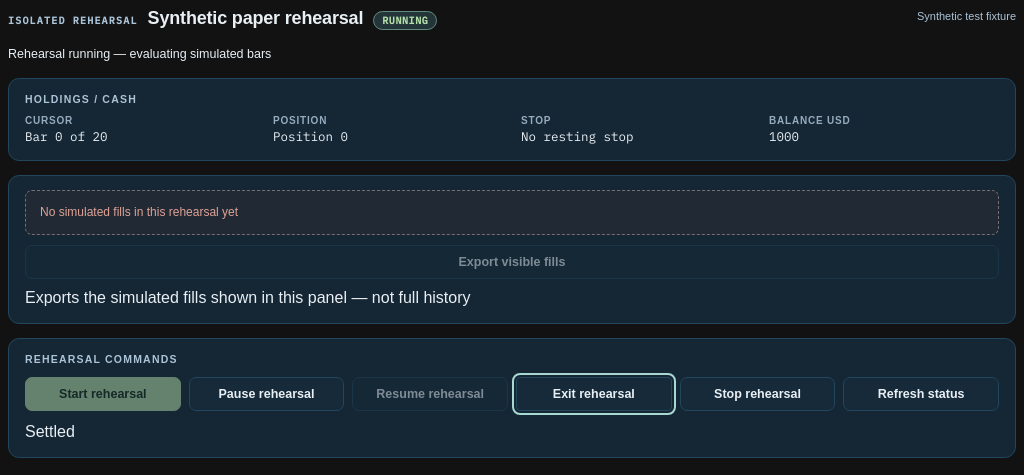
Test case: rehearsal-commands-busy › signals exit through settlement and permits later activation
This screenshot has width=1024, height=475.
Expected: the element with test id "rehearsal-holdings-panel" is shown, [8,78,1016,161]
Click the button with test id "rehearsal-command-exit" at [594, 394], box [516,377,672,411]
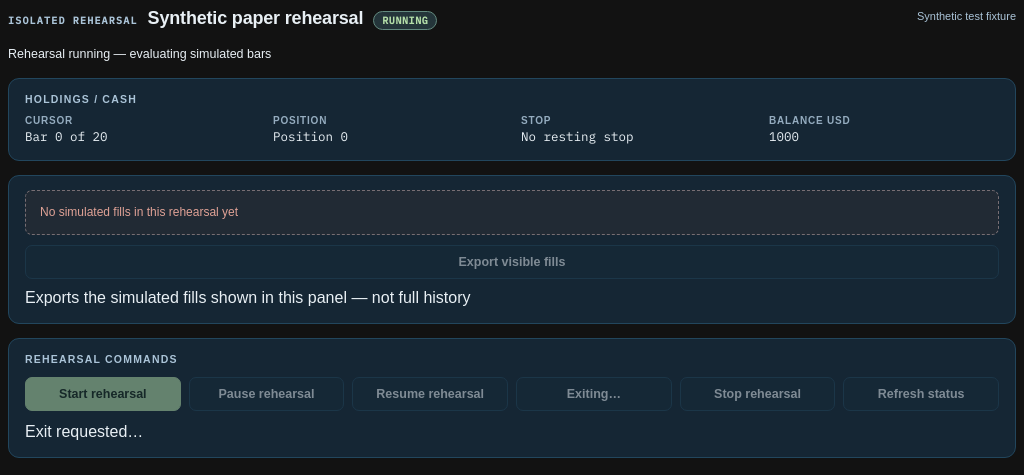
Now the button with test id "rehearsal-command-exit" is disabled
Now the button with test id "rehearsal-command-exit" reads "Exiting…"
Now the text with test id "rehearsal-commands-busy-status" reads "Exit requested…", box [25,423,143,440]
Press the mouse on the button with test id "rehearsal-command-exit" at [594, 394], box [516,377,672,411]
Press Enter in the button with test id "rehearsal-command-exit", box [516,377,672,411]
Click the button with test id "rehearsal-command-exit" at [594, 394], box [516,377,672,411]
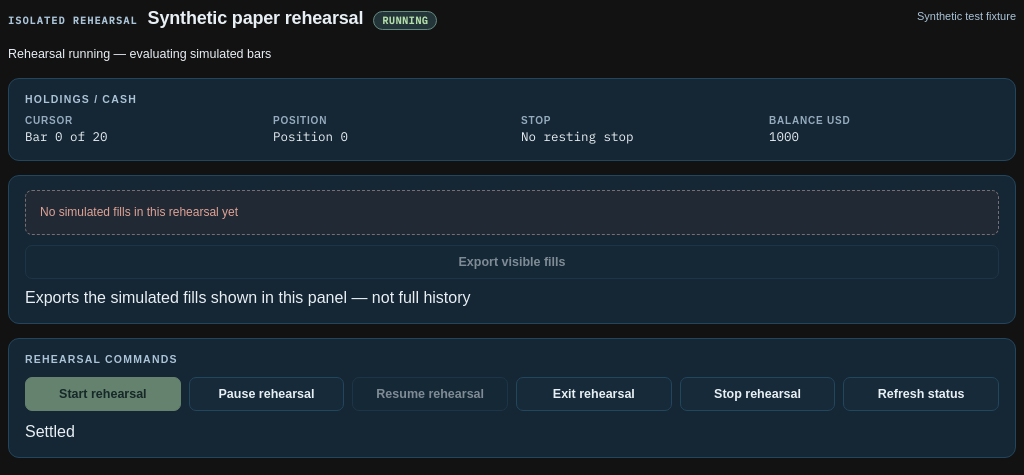
Now the button with test id "rehearsal-command-exit" reads "Exit rehearsal"
Now the text with test id "rehearsal-commands-busy-status" reads "Settled", box [25,423,75,440]
Now the button with test id "rehearsal-command-exit" is enabled
Click the button with test id "rehearsal-command-exit" at [594, 394], box [516,377,672,411]
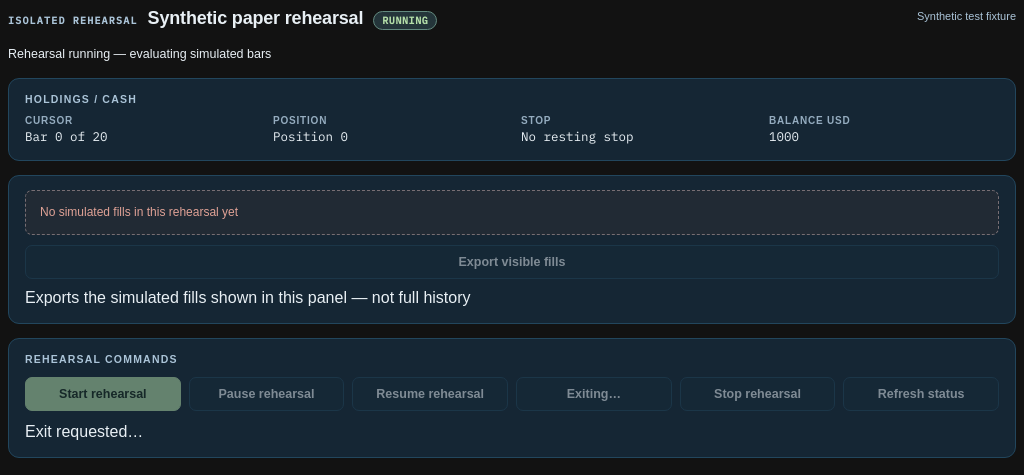
Now the button with test id "rehearsal-command-exit" is disabled
Now the button with test id "rehearsal-command-exit" reads "Exiting…"
Now the text with test id "rehearsal-commands-busy-status" reads "Exit requested…", box [25,423,143,440]
Press the mouse on the button with test id "rehearsal-command-exit" at [594, 394], box [516,377,672,411]
Press Enter in the button with test id "rehearsal-command-exit", box [516,377,672,411]
Click the button with test id "rehearsal-command-exit" at [594, 394], box [516,377,672,411]
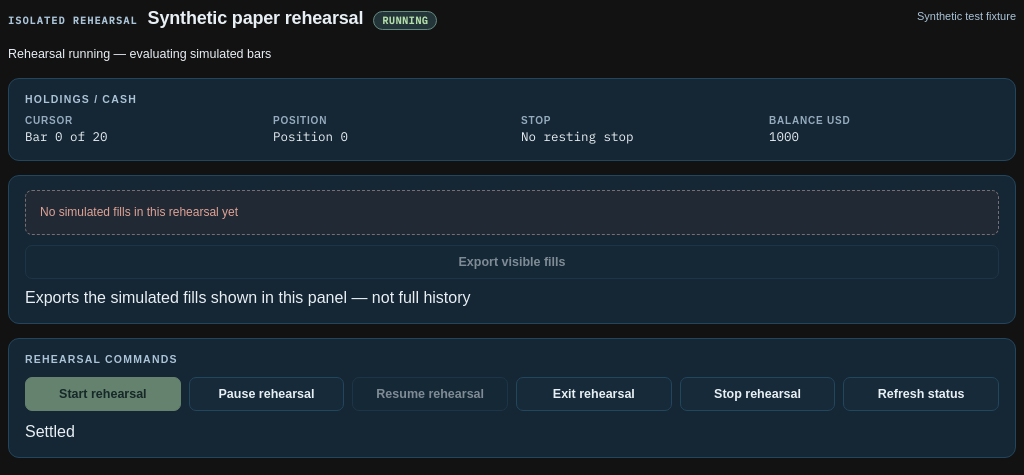
Now the button with test id "rehearsal-command-exit" reads "Exit rehearsal", box [516,377,672,411]
Now the text with test id "rehearsal-commands-busy-status" reads "Settled", box [25,423,75,440]
